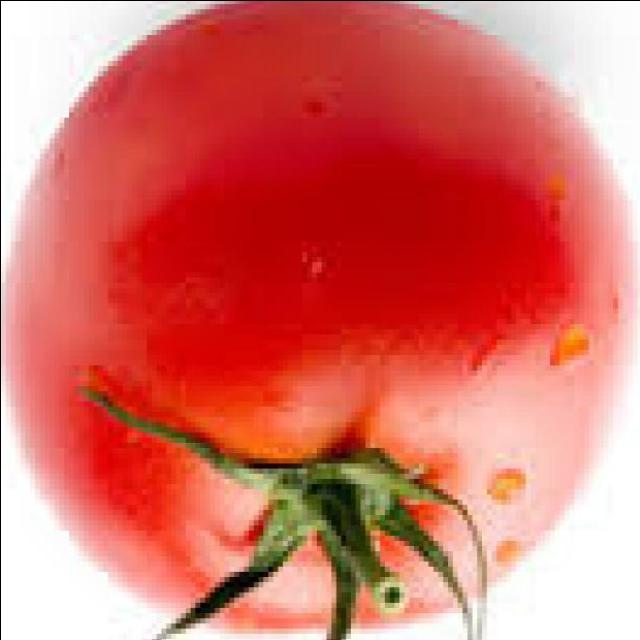Healthy: (0, 0, 636, 639)
